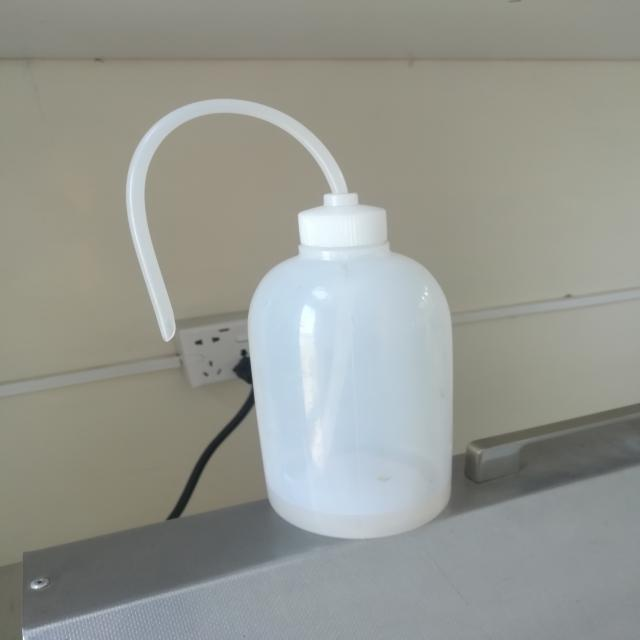Wash_Bottle: (100, 78, 506, 566)
